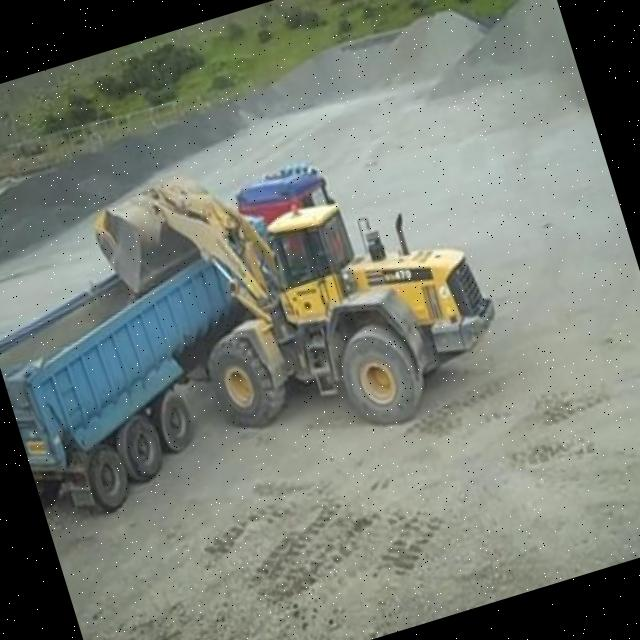Dump Truck: (0, 258, 231, 519)
Loader: (86, 100, 514, 492)
